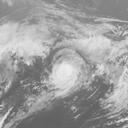cyclone: (50, 61, 80, 98)
